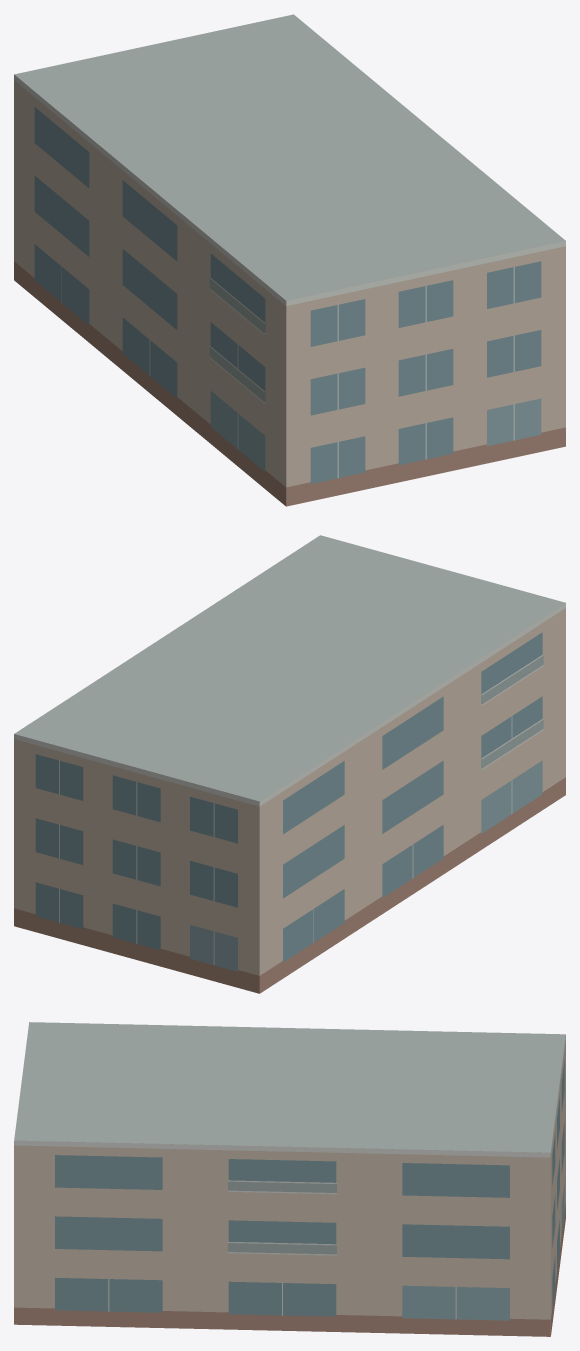
The model's file is residential-c8bd492d-9b05-454e-8b4d-f8b3732c9dd1.glb.
3 views of the same model, one above another, from view 1: azimuth 30°, elevation 25°; view 2: azimuth 150°, elevation 25°; view 3: azimuth 270°, elevation 25° (orthographic). The views are drawn at different scales.
Parts seen in each view (by area): view 1: residential-c8bd492d-9b05-454e-8b4d-f8b3732c9dd1.tmp; view 2: residential-c8bd492d-9b05-454e-8b4d-f8b3732c9dd1.tmp; view 3: residential-c8bd492d-9b05-454e-8b4d-f8b3732c9dd1.tmp.
Boxes of the visible parts, bbox=[...] form: residential-c8bd492d-9b05-454e-8b4d-f8b3732c9dd1.tmp: bbox=[14, 14, 565, 506]; residential-c8bd492d-9b05-454e-8b4d-f8b3732c9dd1.tmp: bbox=[14, 535, 565, 993]; residential-c8bd492d-9b05-454e-8b4d-f8b3732c9dd1.tmp: bbox=[14, 1022, 565, 1336].
Bounding box in the file's own units: 13.93 × 9.15 × 24.86.
